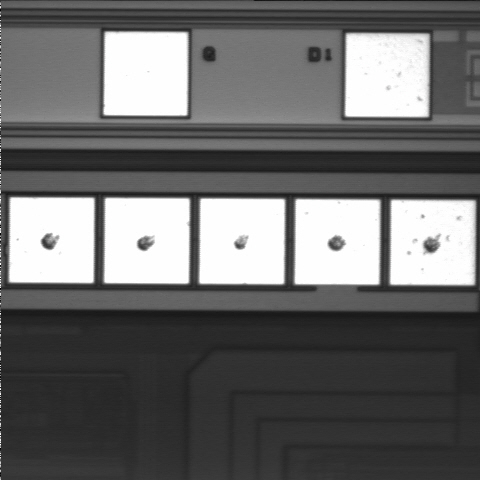pad: (104, 198, 189, 284), (199, 199, 285, 284), (9, 198, 94, 283), (295, 199, 380, 284), (390, 200, 475, 285), (104, 32, 188, 116), (345, 34, 428, 117)
